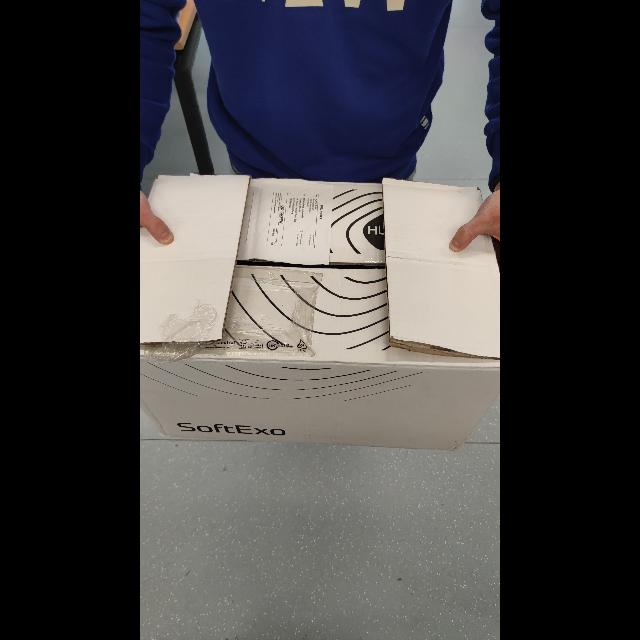cardboard_box: (144, 160, 496, 468)
